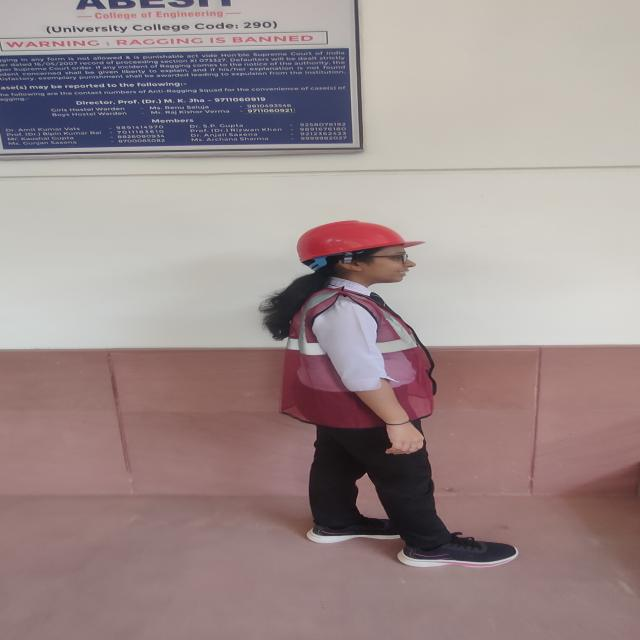safe: (279, 220, 443, 568)
